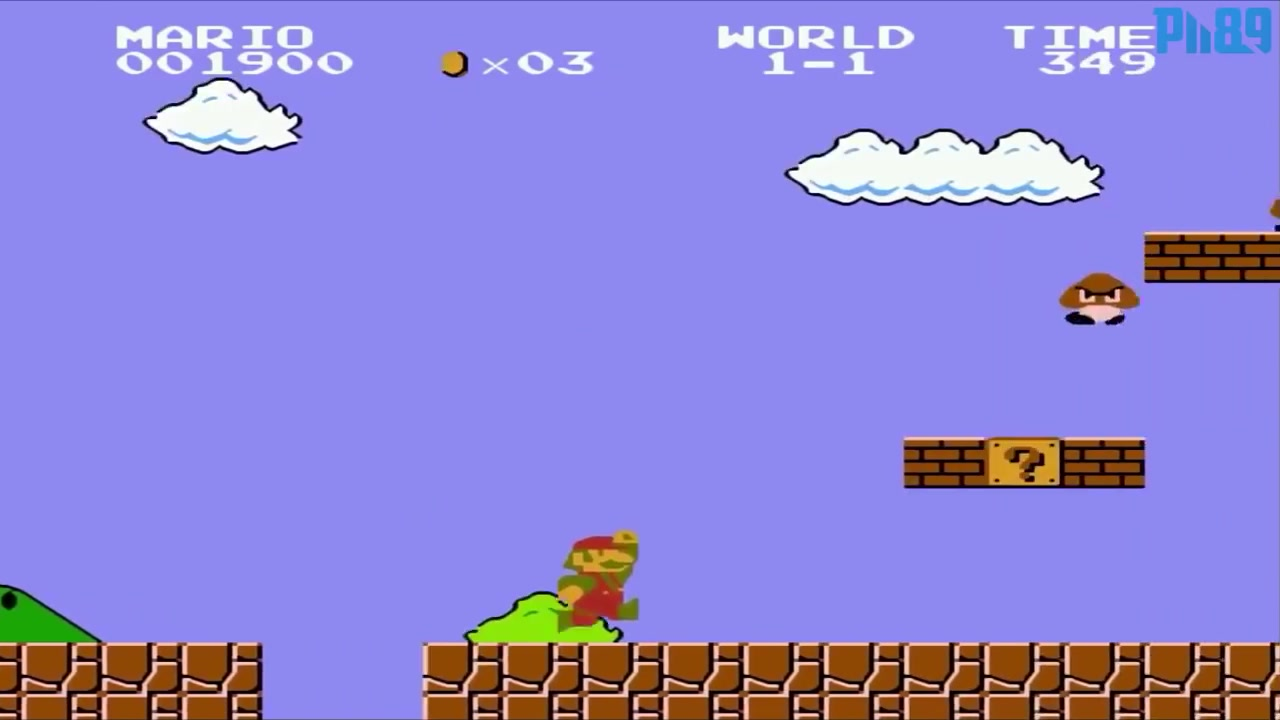mario: (538, 523, 652, 633)
